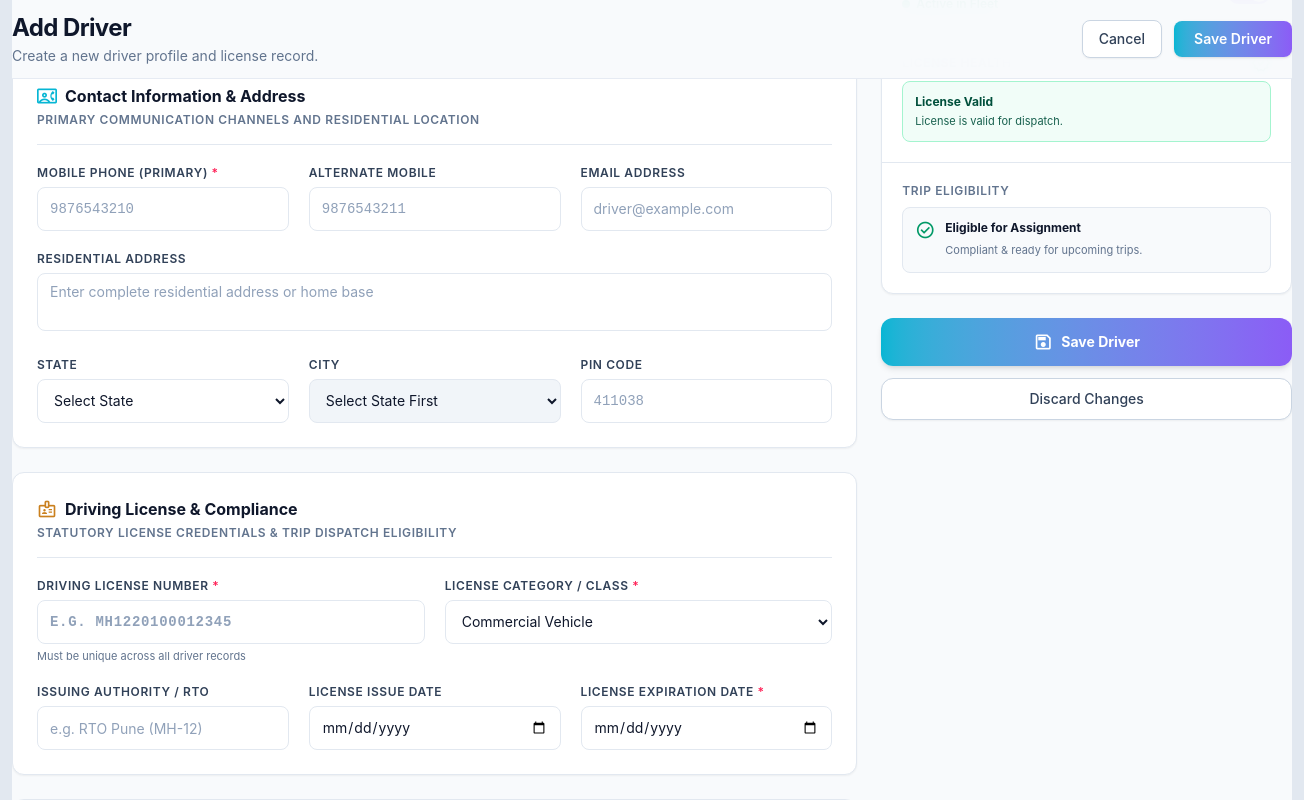
Test case: DriverForm › updates PIN code and removes non-numeric characters
The width and height of the screenshot is (1304, 800).
(page scrolled)
In the field labelled "PIN Code": (706, 400) [580, 378, 832, 422], type "411a038"
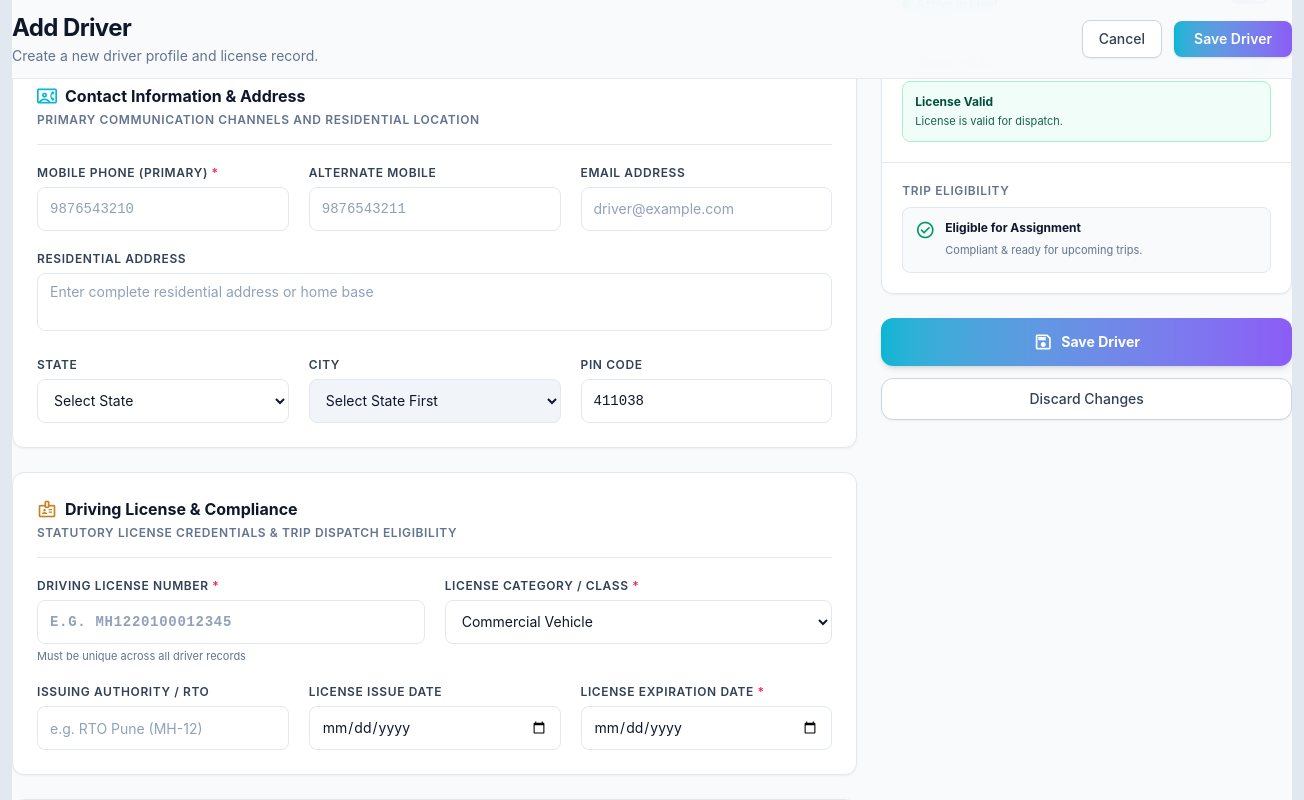
Now the field labelled "PIN Code" holds "411038", box [580, 378, 832, 422]
